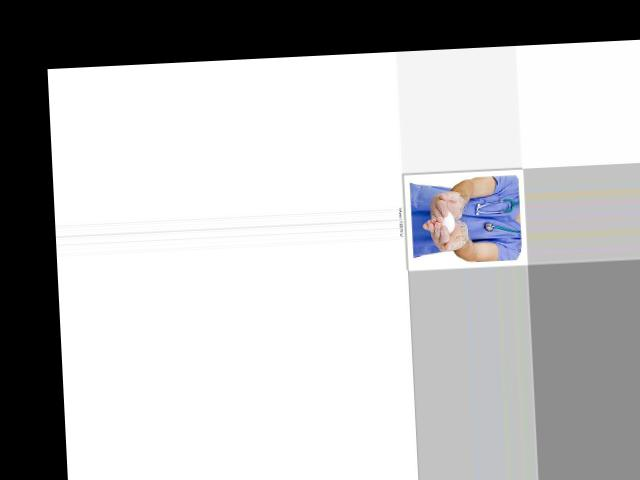egg: (440, 210, 455, 233)
